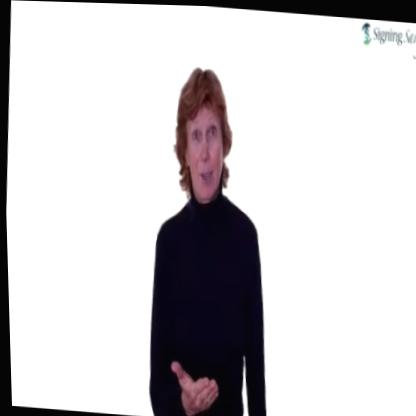ThankYou: (132, 64, 281, 416)
